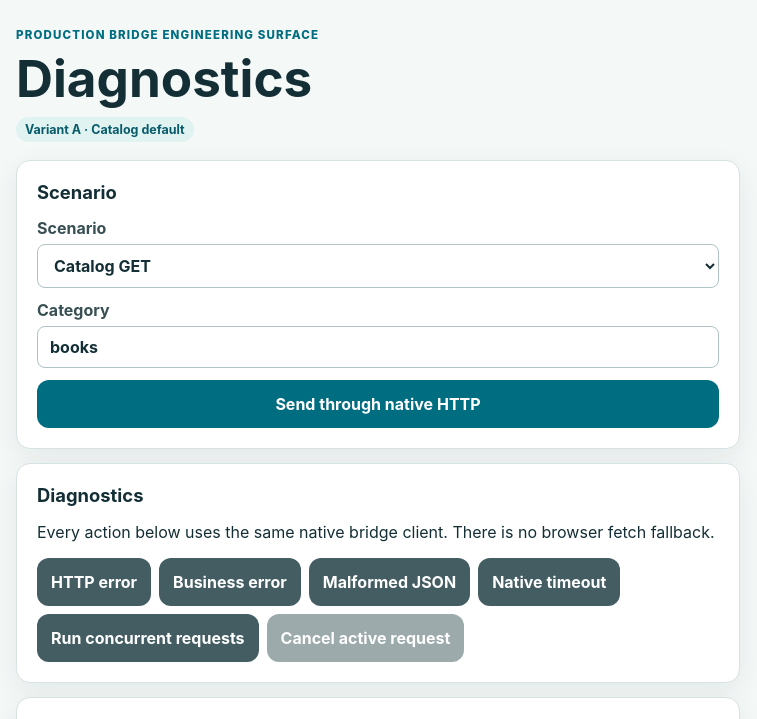
opt-in TechnicalPanel with explicitly mocked native boundary › retains scenario request construction and result summaries
Click the button with test id "lab.submit" at (378, 404), box [37,380,719,428]
(page scrolled)
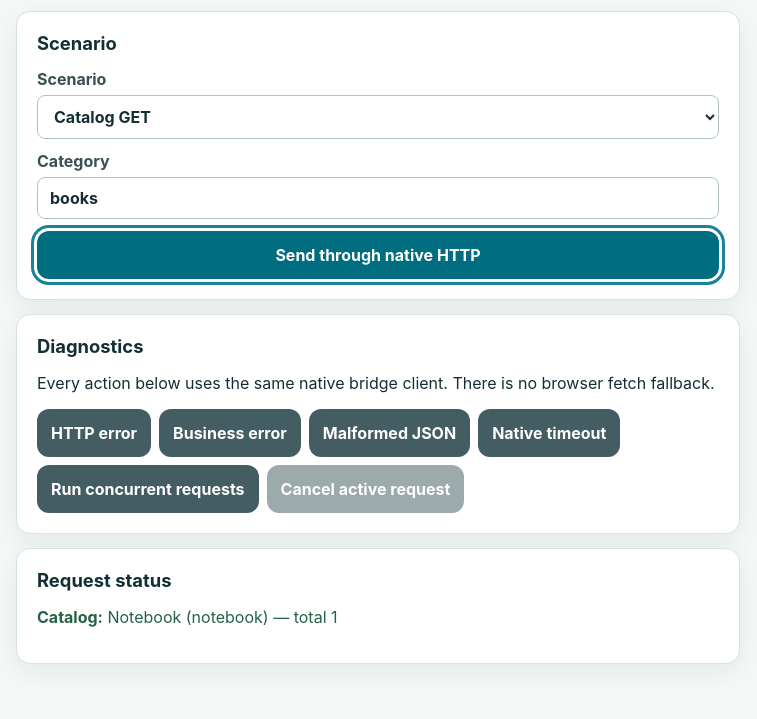
Result: the element with test id "lab.result" shows "Notebook (notebook) — total 1" at [108,607,338,627]
